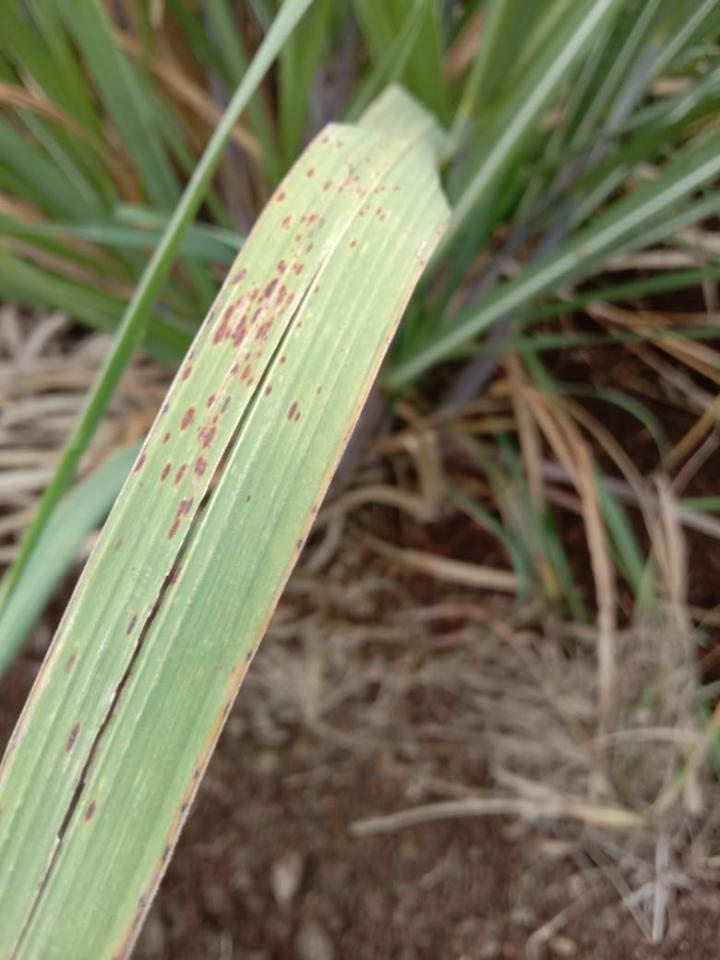Rust: (213, 295, 249, 348), (168, 496, 194, 540), (250, 306, 275, 346), (197, 414, 219, 449), (337, 163, 359, 193), (66, 723, 80, 753), (133, 896, 146, 927), (264, 278, 279, 300), (181, 407, 195, 430), (287, 399, 301, 421), (84, 800, 97, 823), (174, 463, 186, 485), (231, 268, 247, 284), (134, 452, 146, 473), (194, 456, 207, 475), (415, 240, 428, 259), (126, 613, 136, 637), (300, 214, 317, 228), (276, 285, 287, 306), (240, 364, 251, 384), (161, 847, 171, 868), (67, 654, 79, 671), (170, 566, 181, 584), (161, 463, 170, 482), (245, 289, 258, 302), (281, 215, 292, 230), (221, 396, 230, 414), (277, 260, 287, 274), (230, 360, 239, 375), (376, 207, 385, 222), (292, 263, 303, 275), (183, 366, 192, 380), (355, 187, 368, 196), (180, 802, 188, 815), (207, 395, 215, 408), (223, 703, 232, 714), (322, 181, 331, 192), (247, 377, 256, 387), (284, 294, 294, 303), (276, 192, 285, 202), (163, 432, 170, 444), (313, 284, 321, 294), (192, 769, 199, 780), (115, 539, 122, 550), (306, 243, 313, 254), (374, 186, 385, 193), (295, 539, 303, 548), (162, 404, 168, 416), (208, 311, 214, 323), (317, 218, 325, 227), (316, 385, 322, 396), (306, 169, 314, 177), (244, 353, 251, 362), (255, 350, 262, 359), (246, 651, 252, 661), (257, 295, 264, 303), (392, 185, 400, 192), (358, 209, 365, 216), (322, 136, 329, 143), (188, 352, 194, 360), (350, 239, 356, 247), (308, 229, 314, 237), (419, 259, 425, 267), (311, 505, 316, 514), (245, 305, 251, 312), (295, 234, 301, 241), (335, 142, 342, 148), (246, 496, 251, 504), (266, 387, 271, 395), (280, 356, 285, 364), (365, 204, 370, 211), (297, 322, 302, 327), (365, 158, 370, 162)
